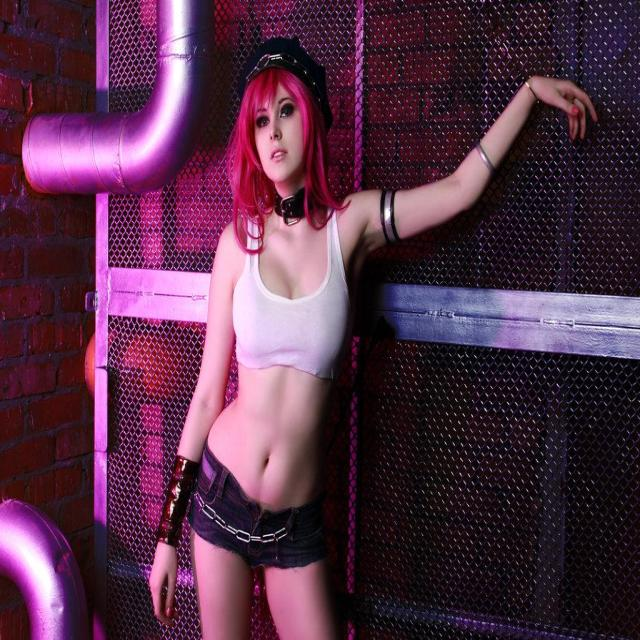Face: (252, 76, 318, 189)
